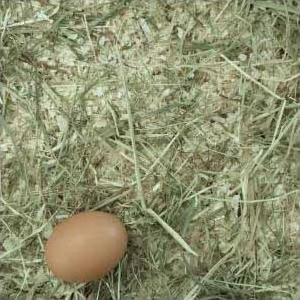egg: (44, 210, 129, 284)
